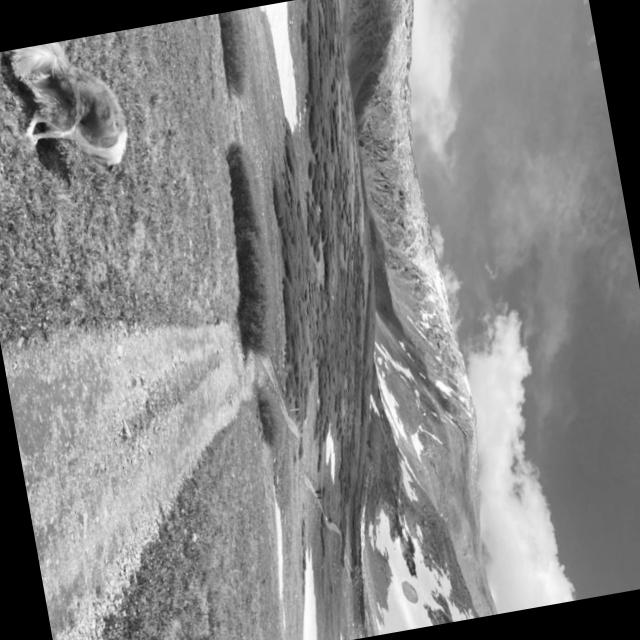squatting: (2, 31, 140, 200)
